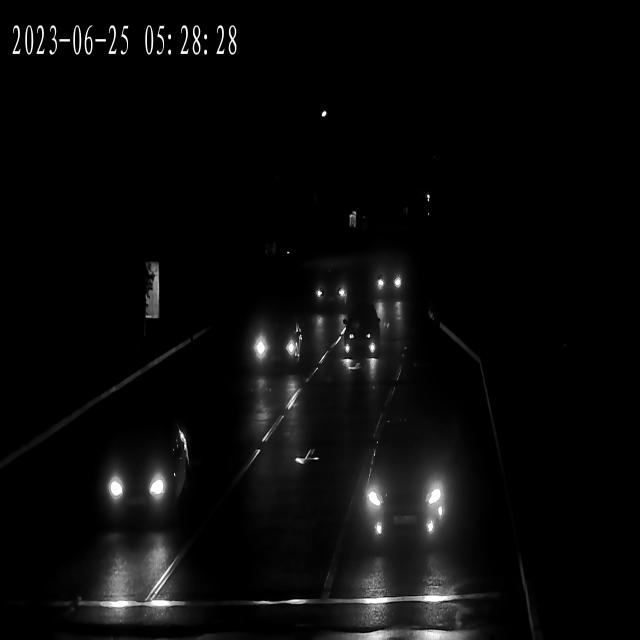Car: (364, 417, 454, 560), (106, 422, 186, 534), (252, 312, 304, 374), (344, 313, 381, 369), (315, 272, 348, 310), (378, 263, 406, 307)
